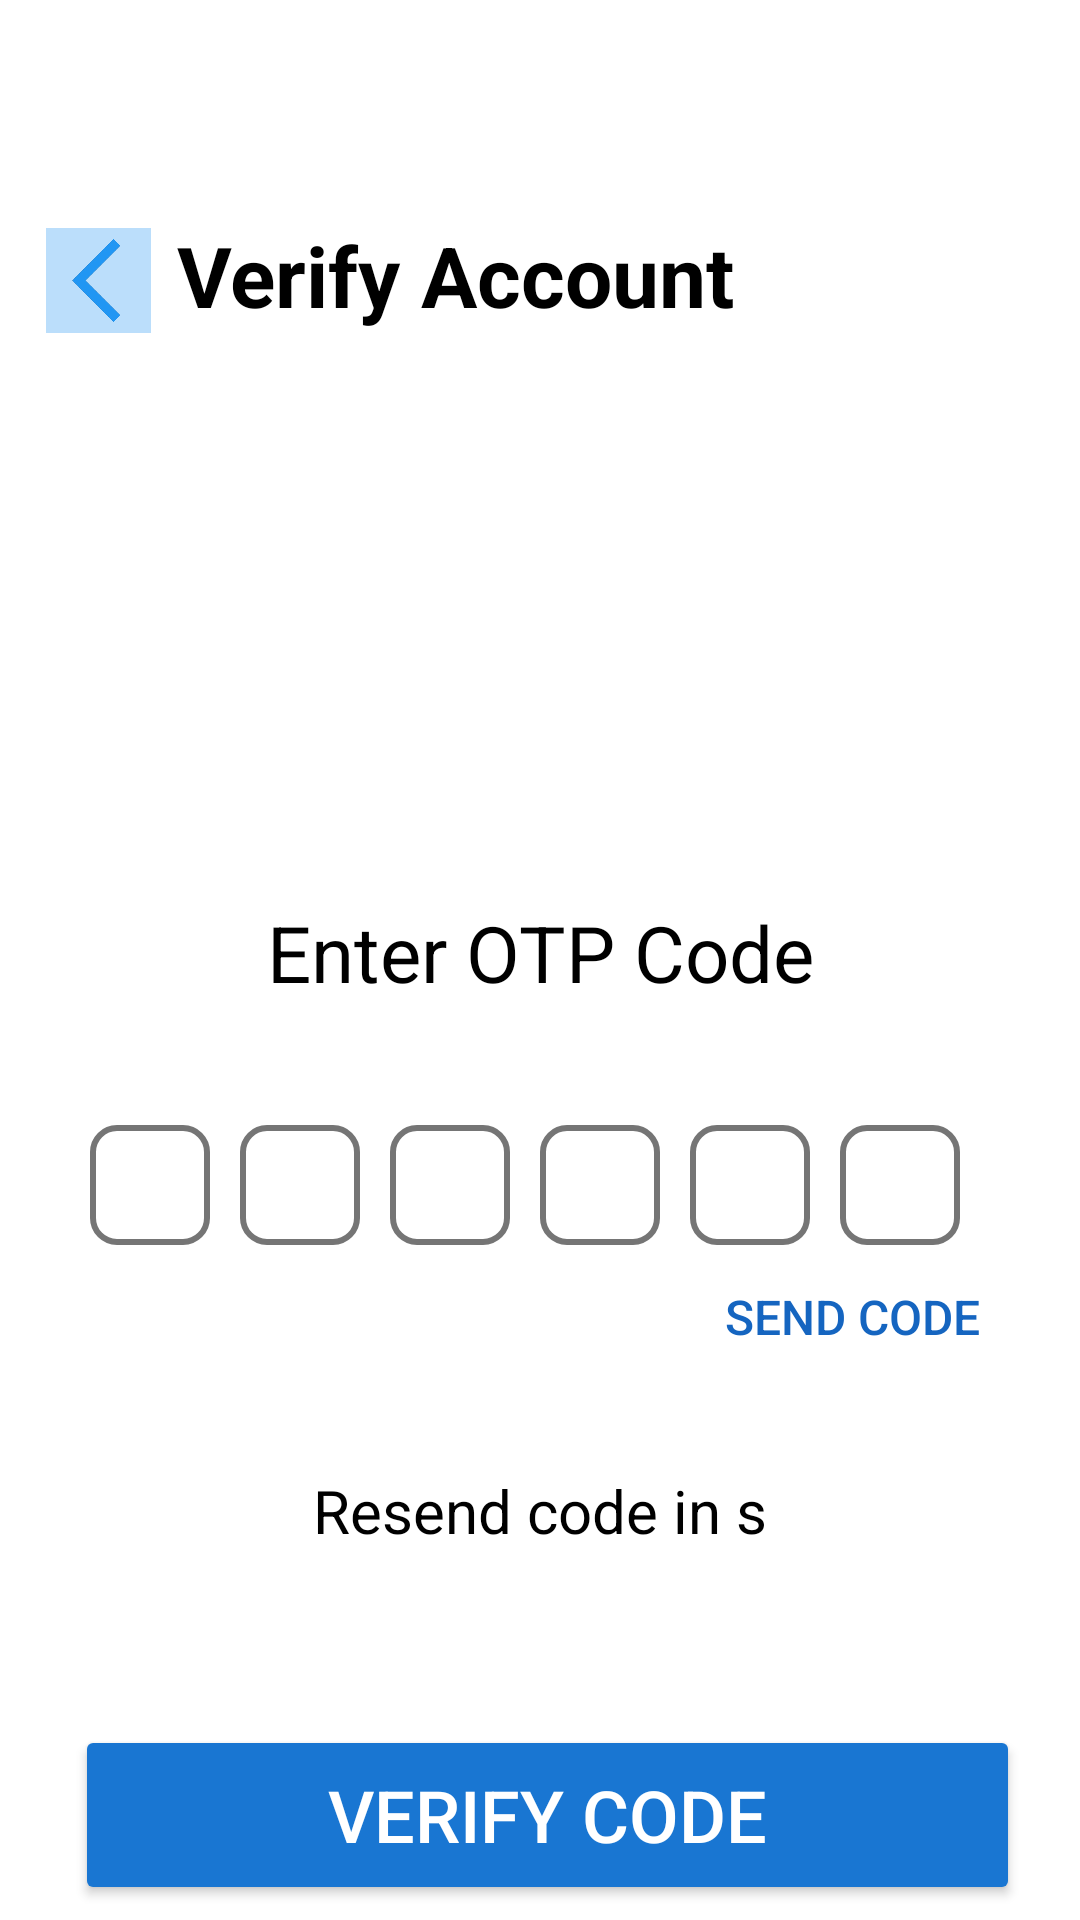

Named icons in this screenshot (1080x1920) and their centers, [x,y]:
comeback: [98,280]
